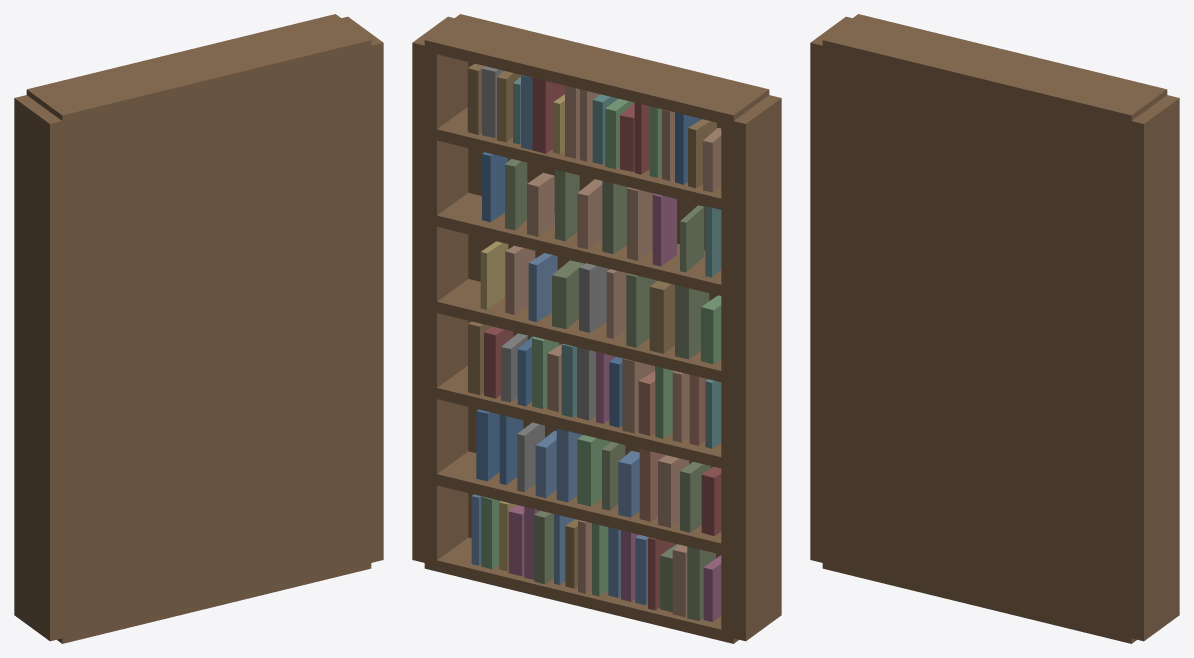
3 views of the same model, side by side, from view 1: azimuth 30°, elevation 25°; view 2: azimuth 150°, elevation 25°; view 3: azimuth 330°, elevation 25° (orthographic).
Parts seen in each view (by area): view 1: object 3, Cube, Cube.009, Cube.001, Cube.005, Cube.008, Cube.004, Cube.003, Cube.006, Cube.007; view 2: object 11, Cube, Cube.001, Cube.009, Cube.007, Cube.006, Cube.004, Cube.003, Cube.005, Cube.008, object 3; view 3: object 3, Cube.001, Cube.009, Cube, Cube.005, Cube.008, Cube.003, Cube.004, Cube.006, Cube.007.
Boxes of the visible parts, x1,y1,x2,y2 form: object 3: (62,49,370,636); Cube: (14,95,74,641); Cube.009: (26,14,371,126); Cube.001: (341,16,383,565); Cube.005: (62,388,358,471); Cube.008: (62,129,358,211); Cube.004: (77,473,370,552); Cube.003: (57,560,371,643); Cube.006: (62,301,371,382); Cube.007: (75,214,371,295); object 11: (467,63,721,621); Cube: (721,95,781,641); Cube.001: (412,16,468,565); Cube.009: (424,14,769,126); Cube.007: (425,192,728,296); Cube.006: (425,279,731,384); Cube.004: (425,451,733,557); Cube.003: (424,537,738,643); Cube.005: (427,365,733,471); Cube.008: (426,107,733,212); object 3: (468,62,721,558); object 3: (823,49,1131,637); Cube.001: (1119,95,1179,641); Cube.009: (822,14,1167,126); Cube: (810,16,852,565); Cube.005: (825,388,1131,471); Cube.008: (824,127,1130,212); Cube.003: (822,560,1136,643); Cube.004: (823,472,1067,541); Cube.006: (823,299,1129,384); Cube.007: (823,214,1121,294).
Size of the model in its own units: 2.16 by 3.27 by 0.3999.
